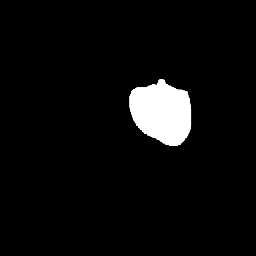mass: (114, 67, 166, 109)
